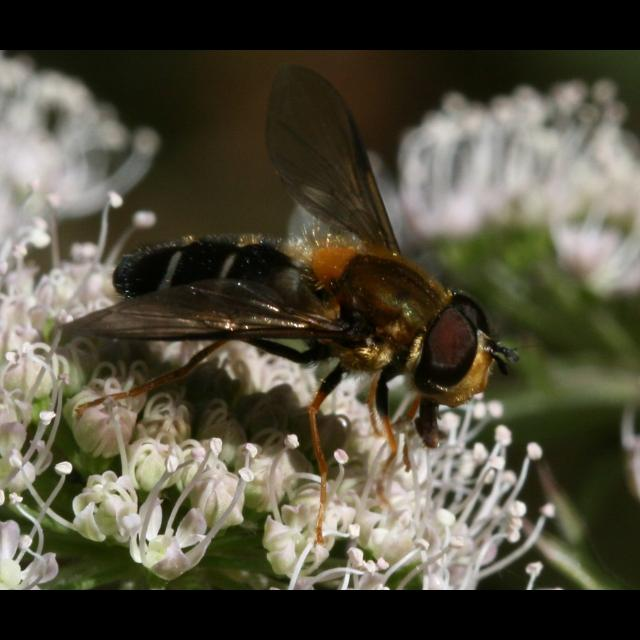Flower: (1, 178, 556, 590), (291, 78, 639, 302), (0, 53, 156, 255), (68, 476, 132, 552)
